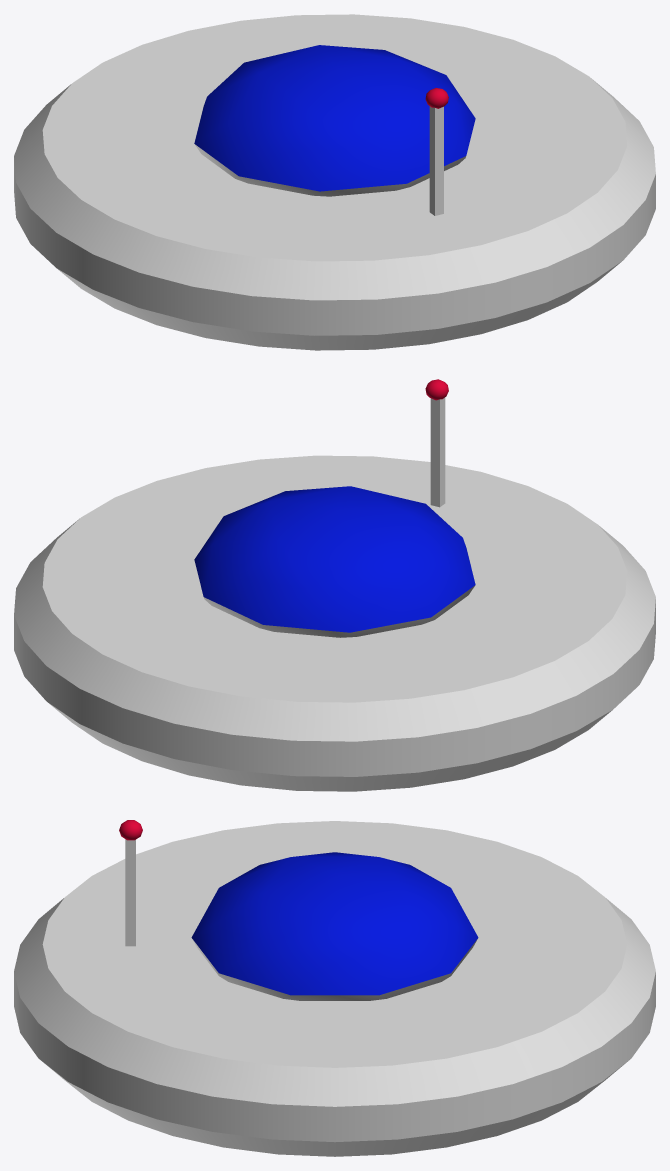
The model's file is UFO.fbx.
3 views of the same model, one above another, from view 1: azimuth 30°, elevation 25°; view 2: azimuth 150°, elevation 25°; view 3: azimuth 270°, elevation 25° (orthographic).
Visible parts, largest first — view 1: Icosphere.001; view 2: Icosphere.001; view 3: Icosphere.001.
Part boxes in pixels (<box>): Icosphere.001: <box>14,14,655,350</box>; Icosphere.001: <box>14,379,655,791</box>; Icosphere.001: <box>14,820,655,1156</box>.
Size of the model in its own units: 7.44 by 3.02 by 7.44.
